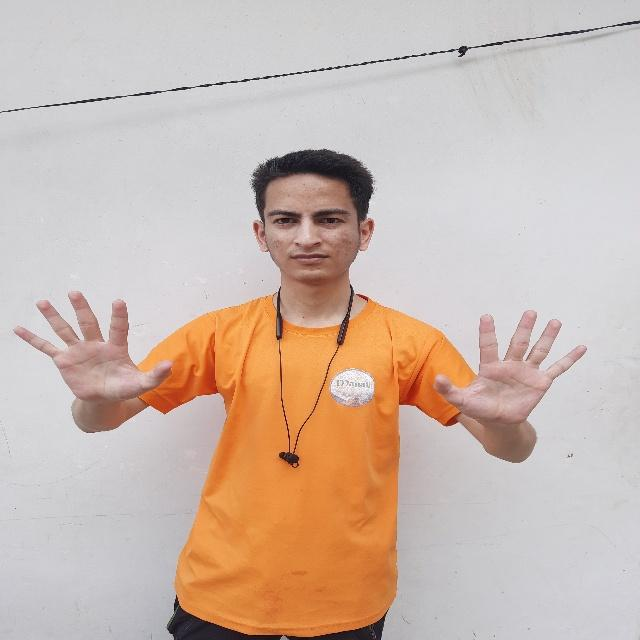Moutza: (9, 282, 183, 421), (425, 302, 591, 437)
